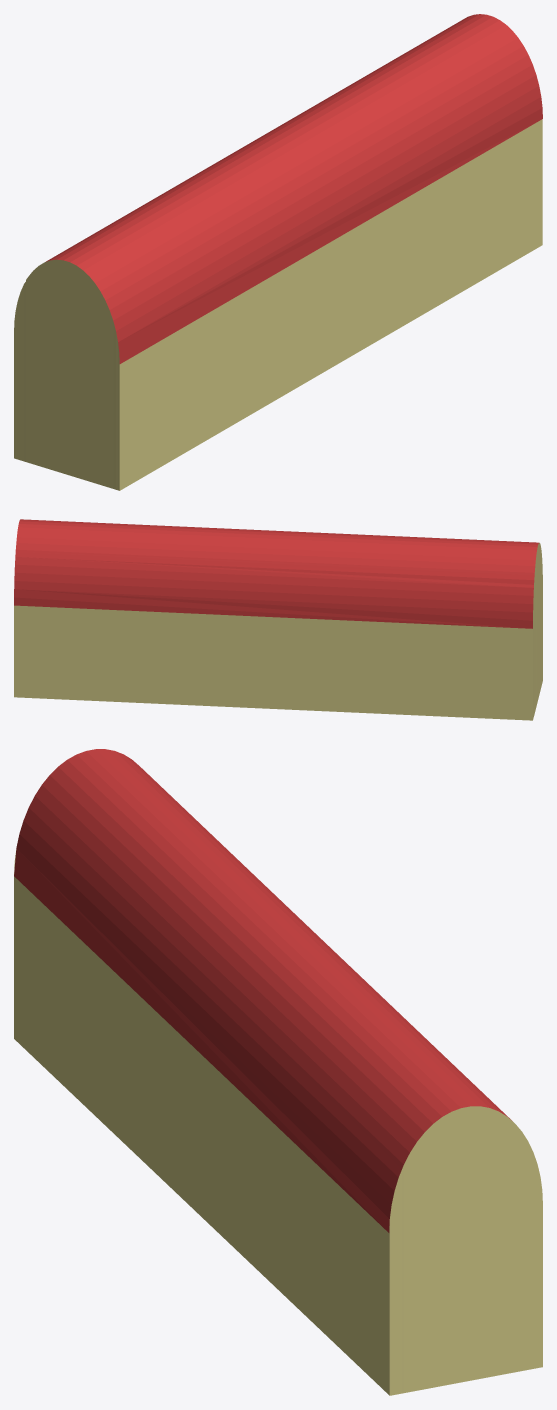
The picture shows the model from 3 angles, top to bottom: view 1: azimuth 30°, elevation 25°; view 2: azimuth 150°, elevation 25°; view 3: azimuth 270°, elevation 25°; orthographic projection. The views are drawn at different scales.
Size of the model in its own units: 16.94 by 9.81 by 5.61.
